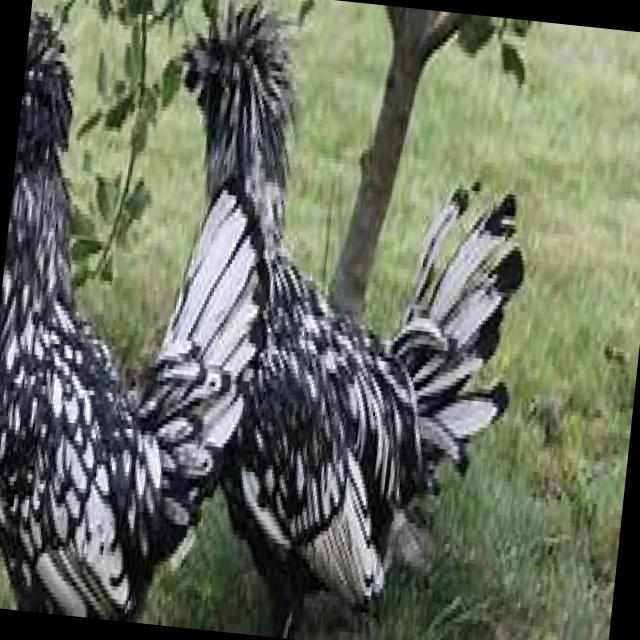animal: (115, 0, 550, 640), (0, 0, 293, 627)
